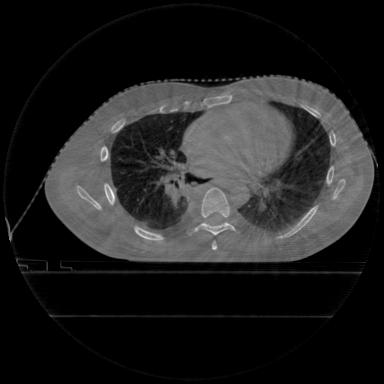body: (45, 76, 374, 262)
cord: (192, 188, 236, 237)
paru kanan: (112, 111, 210, 228)
paru kiri: (238, 101, 331, 231)
